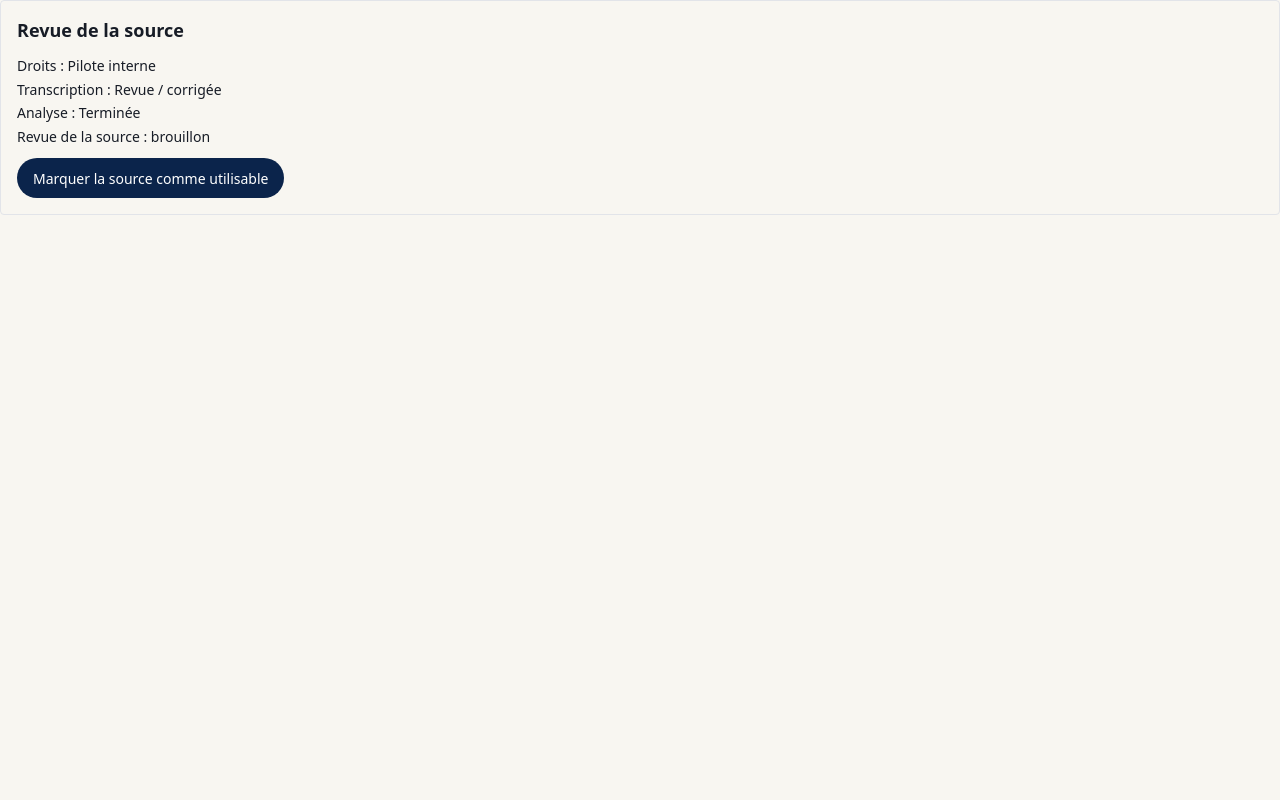
Test: explicit source review › displays server refusal STAFF_ROLE_REQUIRED
Click the button "Marquer la source comme utilisable" at (151, 178), box [17,158,284,198]
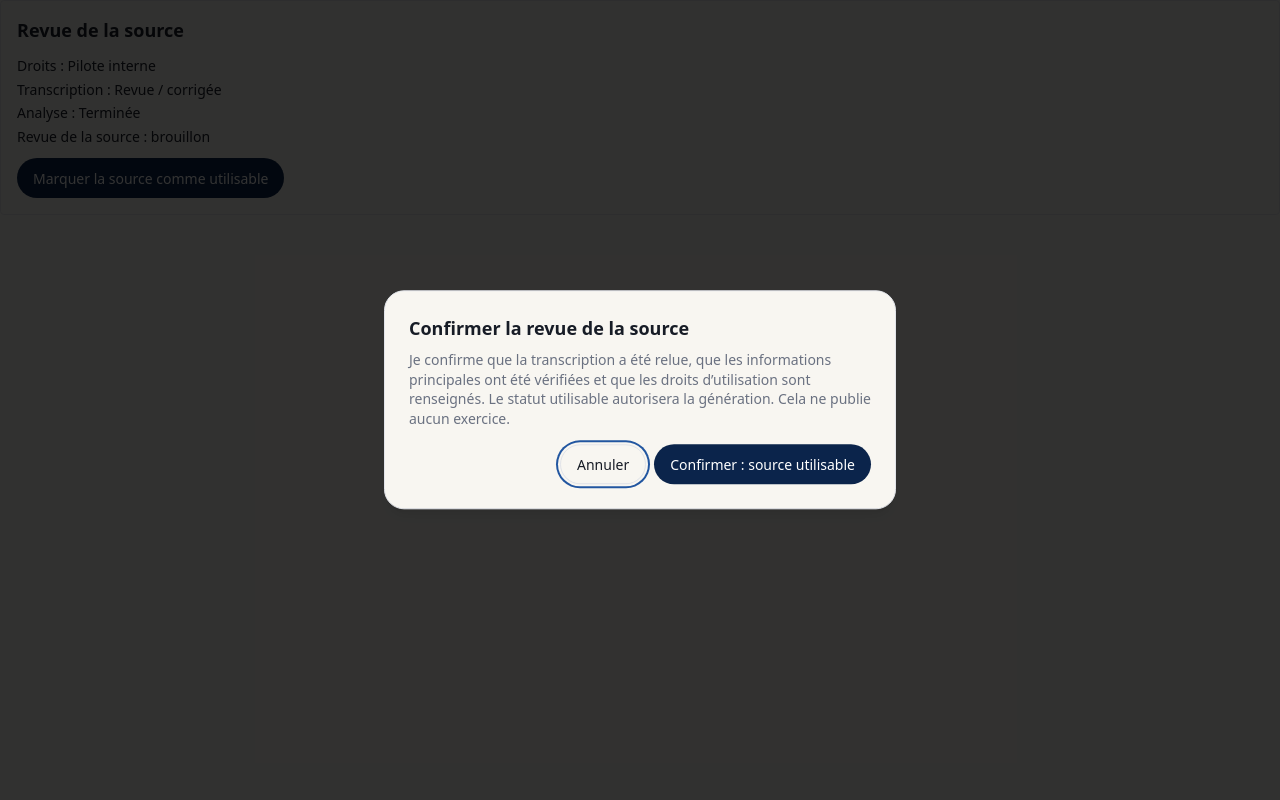
Expected: the button "Confirmer : source utilisable" is shown
Click the button "Confirmer : source utilisable" at (763, 465), box [654,445,871,485]
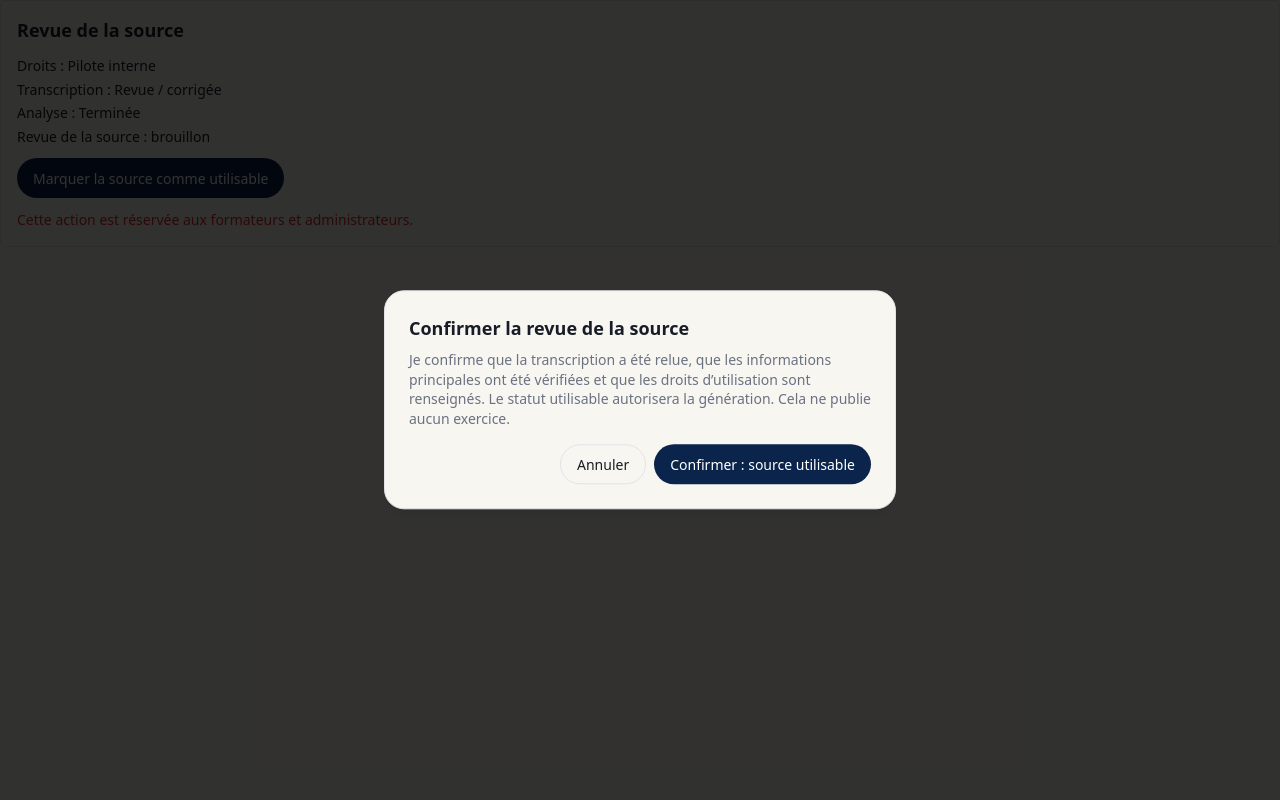
Expected: the message "Cette action est réservée aux formateurs et administrateurs." is shown, [17,210,413,229]
